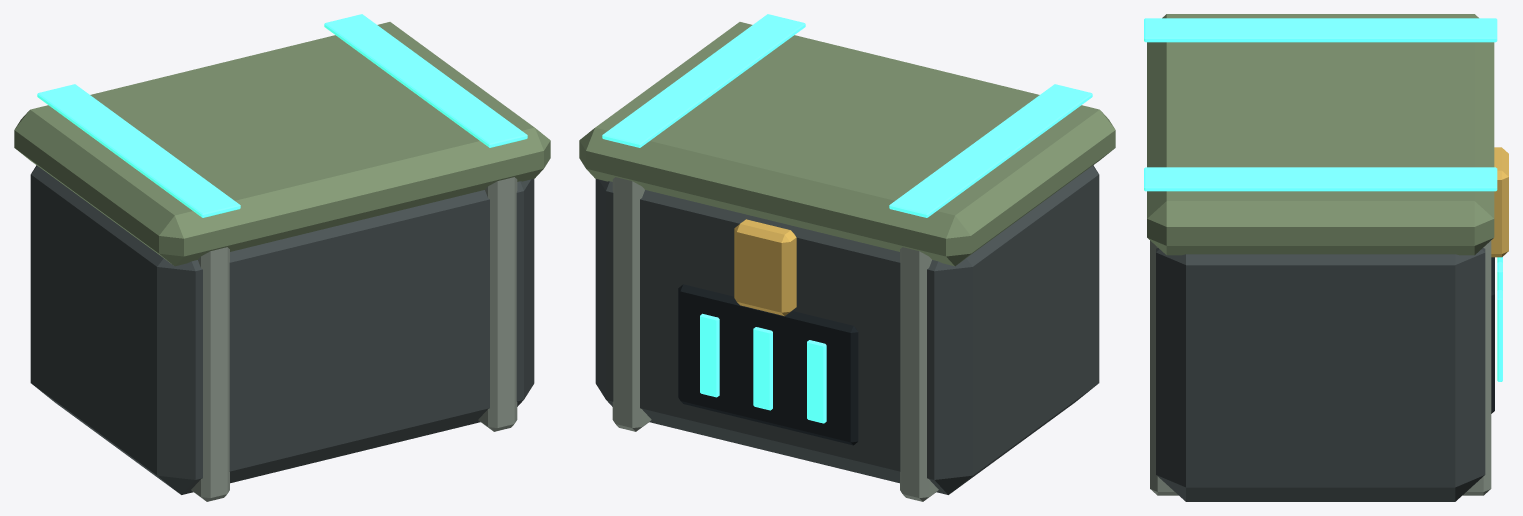
The model's file is crate_neonlab.glb.
3 views of the same model, side by side, from view 1: azimuth 30°, elevation 25°; view 2: azimuth 150°, elevation 25°; view 3: azimuth 270°, elevation 25° (orthographic). The views are drawn at different scales.
Visible parts, largest first — view 1: crate_neonlab_RunningGear.008, crate_neonlab_TankPaint.008, crate_neonlab_Neon.003, crate_neonlab_ArmorEdges.008; view 2: crate_neonlab_RunningGear.008, crate_neonlab_TankPaint.008, crate_neonlab_Neon.003, crate_neonlab_BallSeams.003, crate_neonlab_ArmorEdges.008, crate_neonlab_TrophyGold.003; view 3: crate_neonlab_RunningGear.008, crate_neonlab_TankPaint.008, crate_neonlab_Neon.003, crate_neonlab_ArmorEdges.008, crate_neonlab_TrophyGold.003, crate_neonlab_BallSeams.003.
Part boxes in pixels (x1=…): crate_neonlab_RunningGear.008: x1=30, y1=165, x2=534, y2=494; crate_neonlab_TankPaint.008: x1=14, y1=22, x2=550, y2=266; crate_neonlab_Neon.003: x1=37, y1=14, x2=527, y2=217; crate_neonlab_ArmorEdges.008: x1=191, y1=177, x2=517, y2=501; crate_neonlab_RunningGear.008: x1=595, y1=165, x2=1099, y2=494; crate_neonlab_TankPaint.008: x1=579, y1=22, x2=1115, y2=266; crate_neonlab_Neon.003: x1=602, y1=14, x2=1092, y2=423; crate_neonlab_BallSeams.003: x1=678, y1=284, x2=858, y2=445; crate_neonlab_ArmorEdges.008: x1=612, y1=177, x2=938, y2=501; crate_neonlab_TrophyGold.003: x1=734, y1=219, x2=796, y2=316; crate_neonlab_RunningGear.008: x1=1156, y1=248, x2=1485, y2=501; crate_neonlab_TankPaint.008: x1=1147, y1=14, x2=1494, y2=255; crate_neonlab_Neon.003: x1=1144, y1=18, x2=1502, y2=381; crate_neonlab_ArmorEdges.008: x1=1150, y1=240, x2=1491, y2=495; crate_neonlab_TrophyGold.003: x1=1491, y1=147, x2=1508, y2=257; crate_neonlab_BallSeams.003: x1=1491, y1=257, x2=1494, y2=413.
Bounding box in the file's own units: 1.61 × 1.16 × 1.22.
